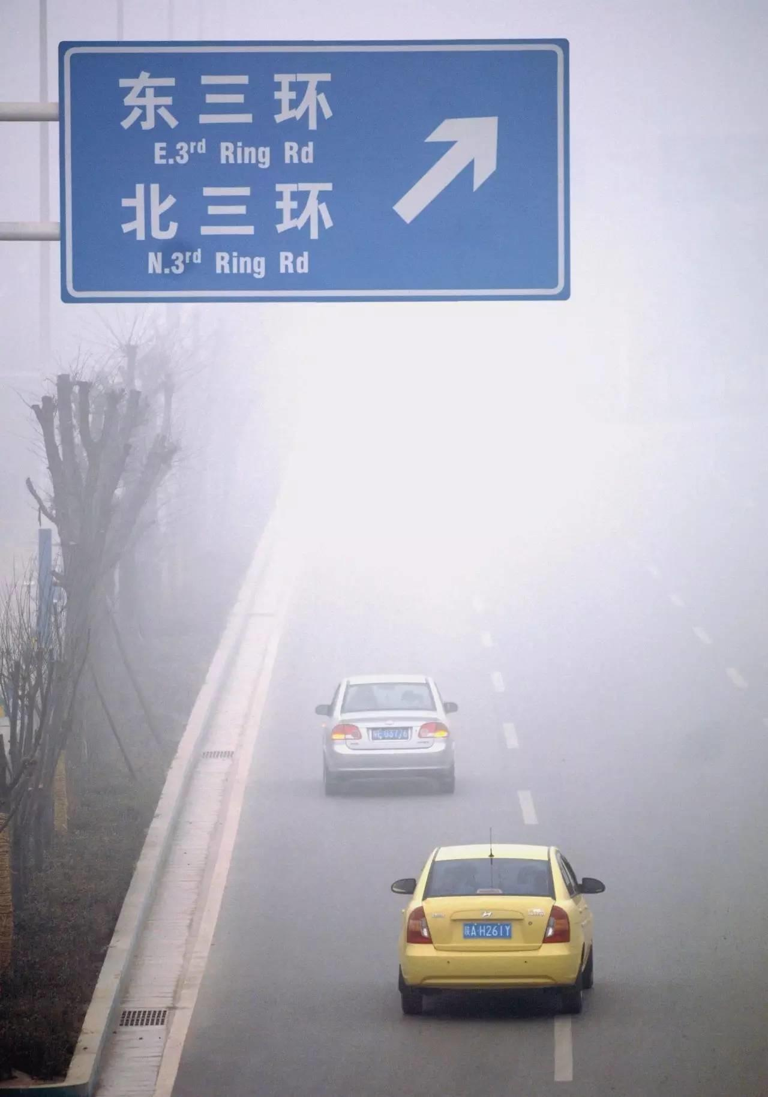car: (390, 825, 607, 1014), (314, 673, 460, 796)
